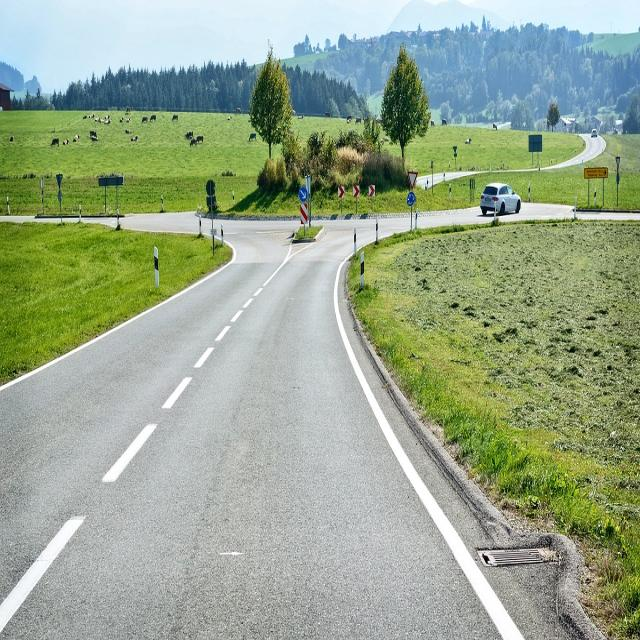roundabout: (407, 192, 416, 206)
